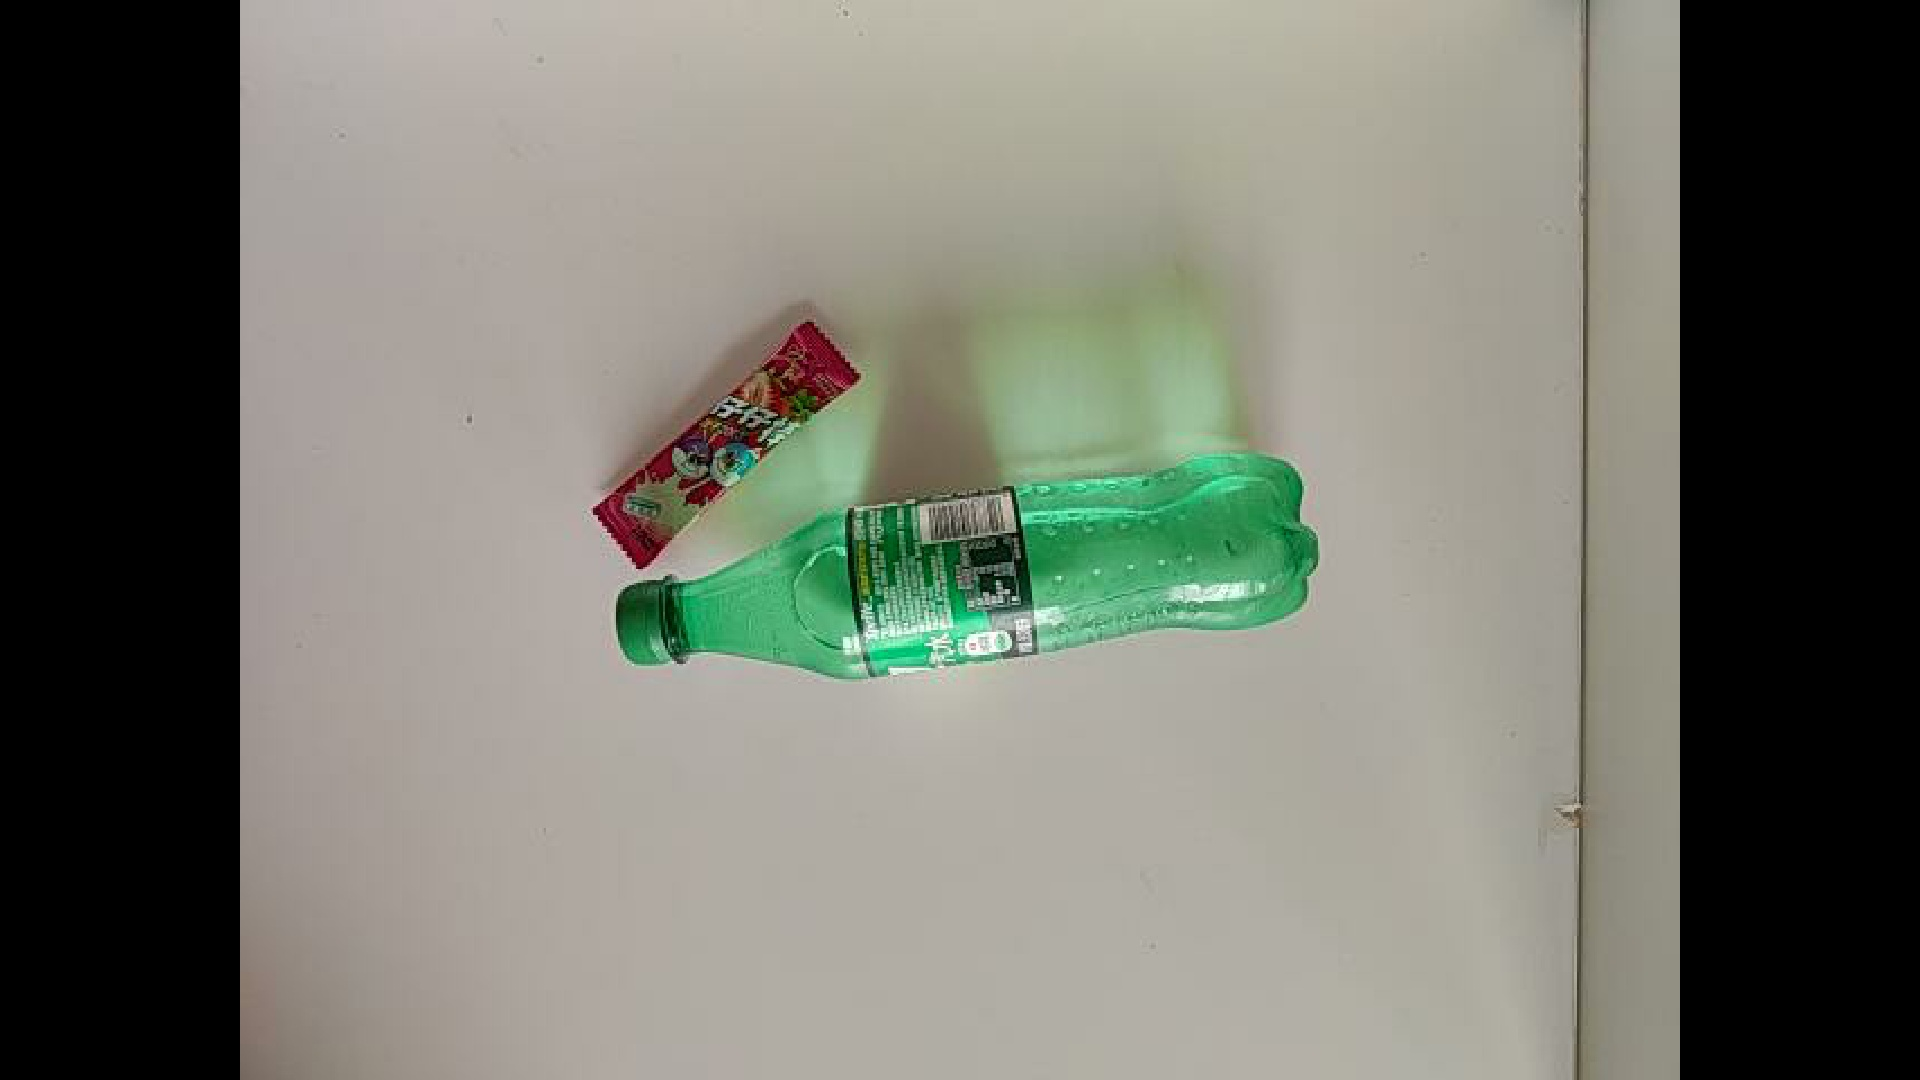sprite: (601, 476, 1346, 711)
sugar: (393, 313, 876, 541)
